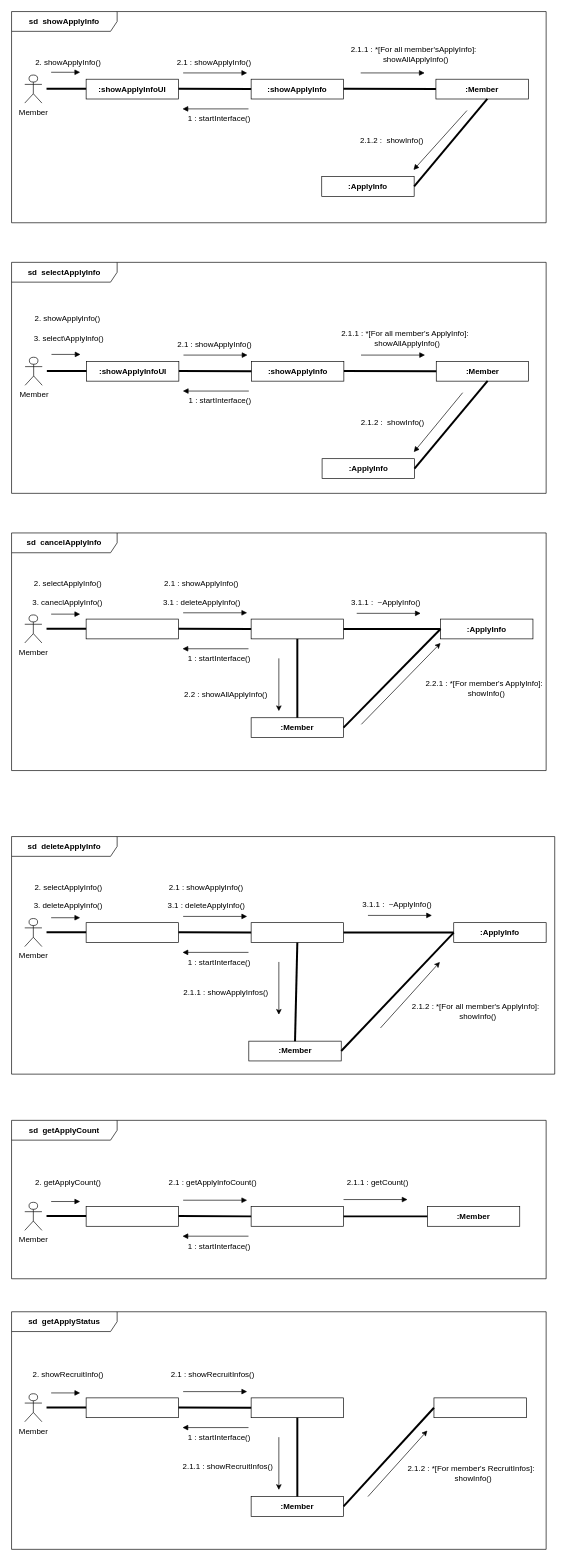
This 566x1561 diagram has some shape labels left out. The centre of each missing label's shape, as x and y in pixels:
": getApplyCount" goes at point (297, 1216).
": getApplyCount UI" goes at point (132, 1216).
": getApplyStatus" goes at point (297, 1407).
": getApplyStatusUI" goes at point (132, 1407).
":cancelApplyInfo" goes at point (297, 628).
":cancelApplyInfoUI" goes at point (132, 628).
":deleteApplyInfo" goes at point (297, 932).
":deleteApplyInfoUI" goes at point (132, 932).
":RecruitInfo" goes at point (479, 1407).
